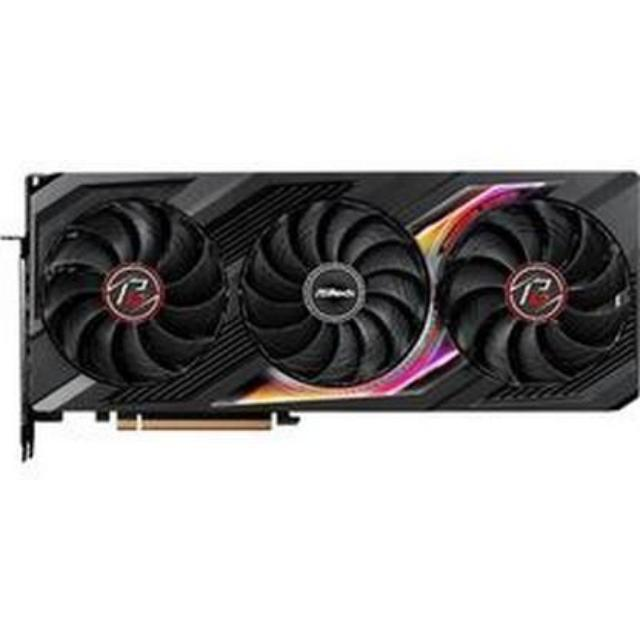GPU: (0, 164, 640, 450)
